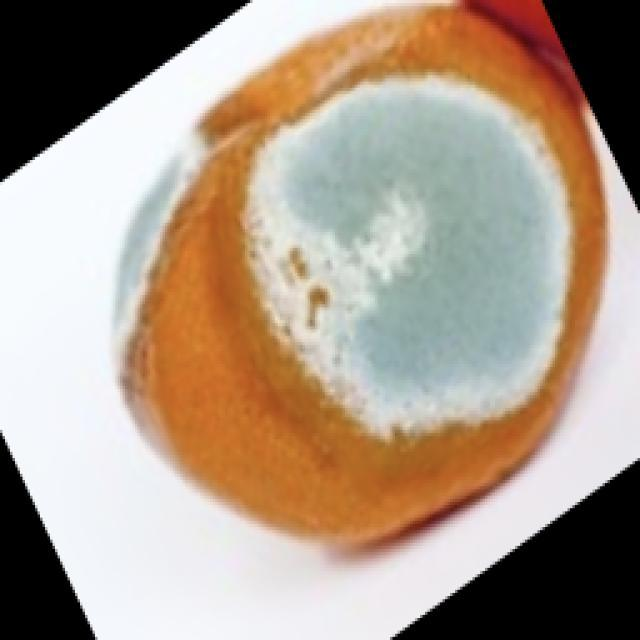sangat-busuk: (116, 5, 603, 543)
